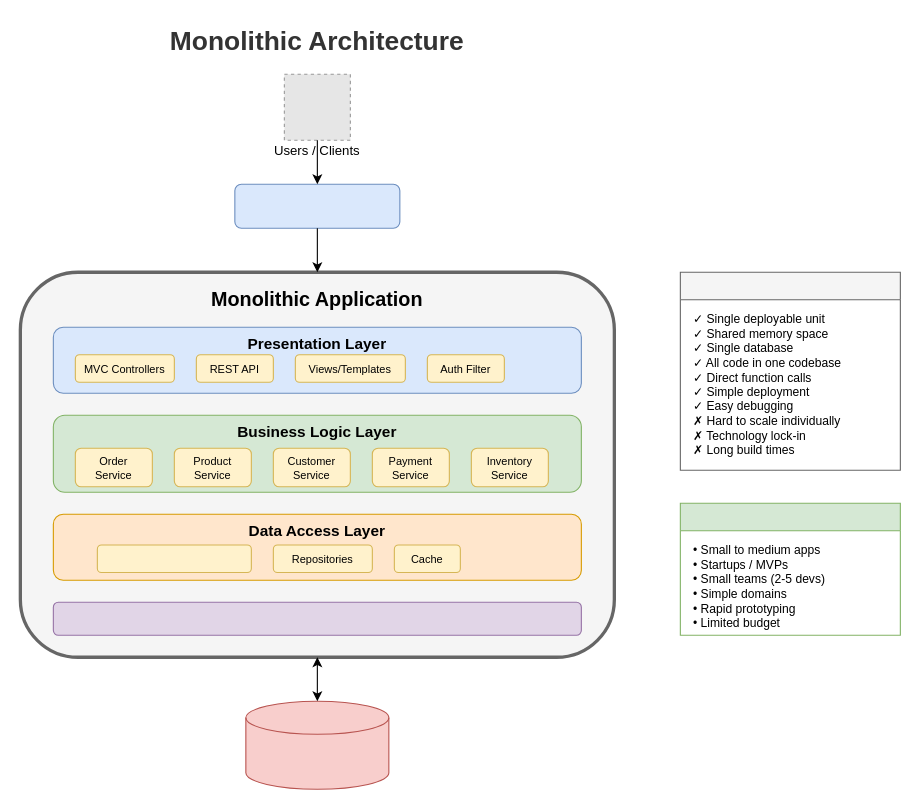
This 920x809 diagram has some shape labels left out. Grey dashed boxes stand in for pictures. Each missing label, with the box of its shape:
Best For: (679, 502, 900, 635)
Characteristics: (679, 271, 900, 470)
Load Balancer: (234, 183, 400, 228)
ORM / Entity Framework: (96, 544, 251, 573)
Shared: Logging, Config, Utils, Models: (52, 601, 581, 635)
Single Database: (245, 700, 389, 789)
